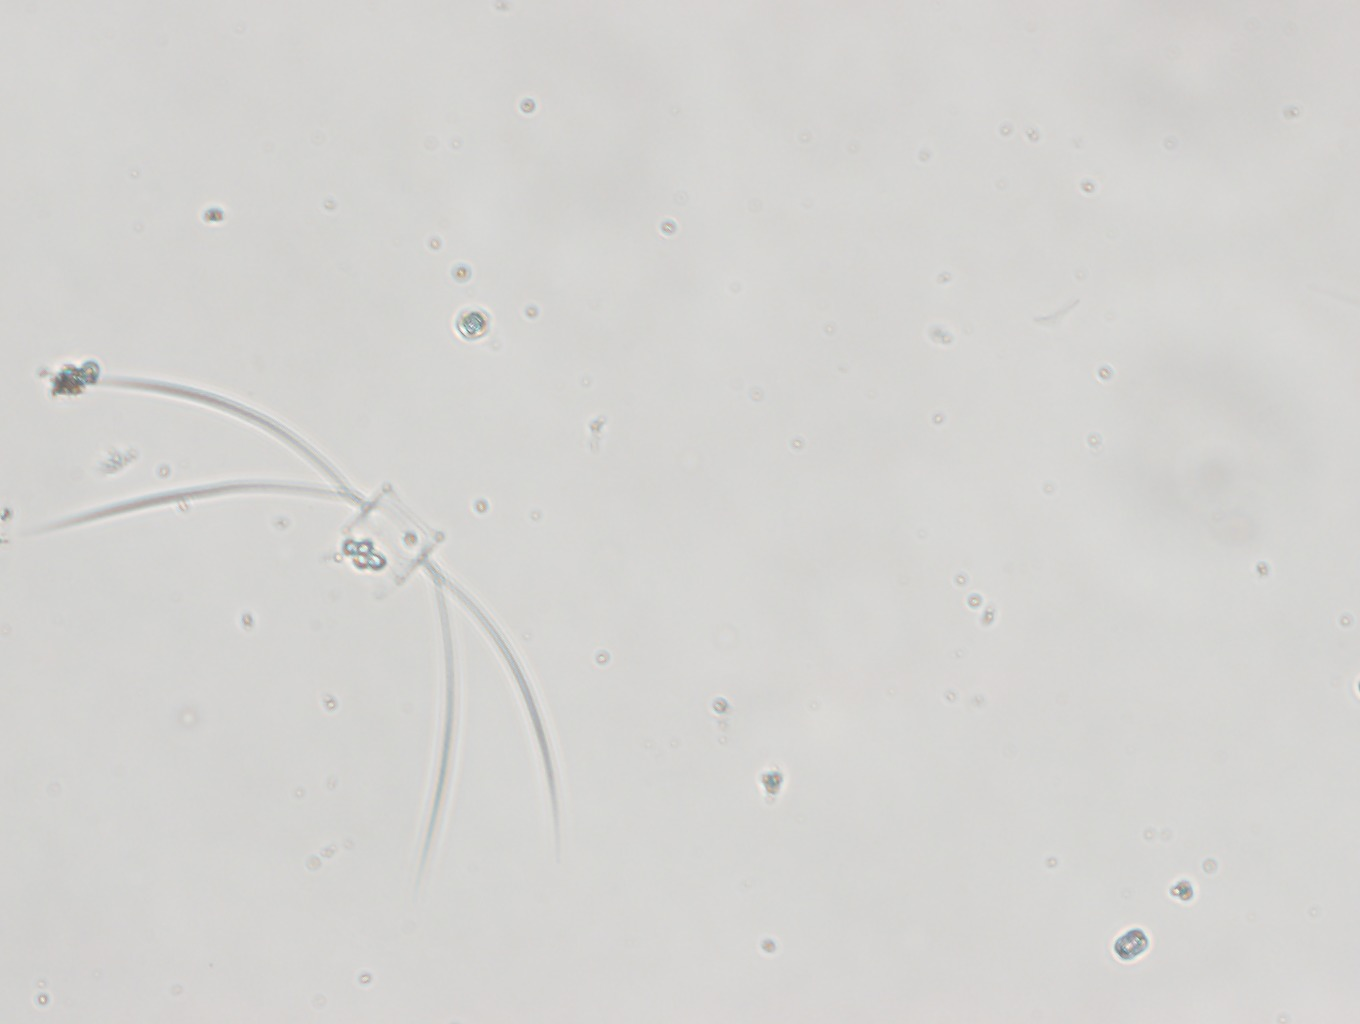chaetoceros: (42, 376, 564, 861)
